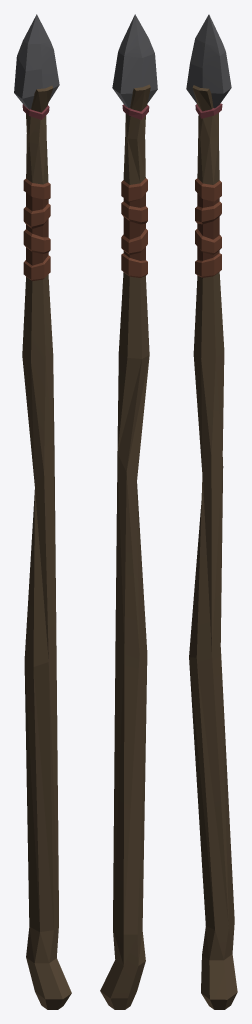
The model's file is Vara_Pesca_03.glb.
3 renders of one model, left to right at view 1: azimuth 30°, elevation 25°; view 2: azimuth 210°, elevation 25°; view 3: azimuth 330°, elevation 25°, orthographic.
Parts seen in each view (by area): view 1: SM_Wep_Spear_01; view 2: SM_Wep_Spear_01; view 3: SM_Wep_Spear_01.
Boxes of the visible parts, bbox=[...] form: SM_Wep_Spear_01: bbox=[14, 14, 71, 1009]; SM_Wep_Spear_01: bbox=[100, 14, 157, 1009]; SM_Wep_Spear_01: bbox=[186, 14, 237, 1009].
Bounding box in the file's own units: 0.0953 × 1.98 × 0.0815.
1 material, 1 textured.
